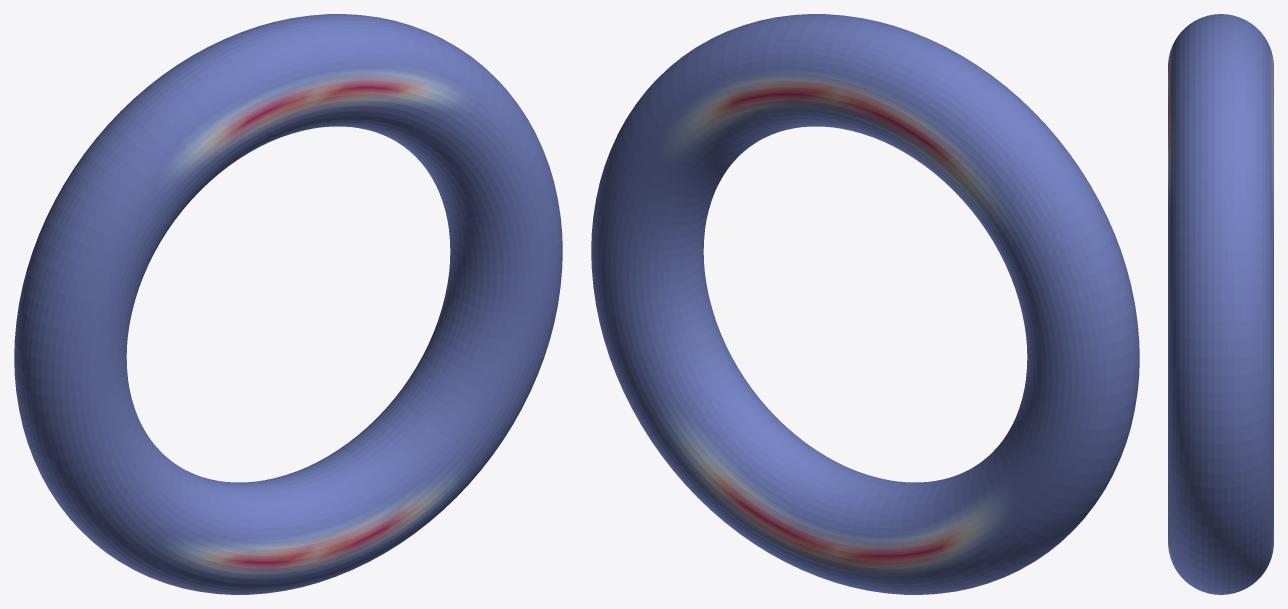
The picture shows the model from 3 angles, left to right: view 1: azimuth 30°, elevation 25°; view 2: azimuth 150°, elevation 25°; view 3: azimuth 270°, elevation 25°; orthographic projection. The views are drawn at different scales.
Parts seen in each view (by area): view 1: world; view 2: world; view 3: world.
Part boxes in pixels (x1,y1,x2,y2): world: (14, 14, 562, 594); world: (591, 14, 1139, 594); world: (1168, 14, 1273, 594).
Size of the model in its own units: 13.87 by 13.87 by 2.53.
